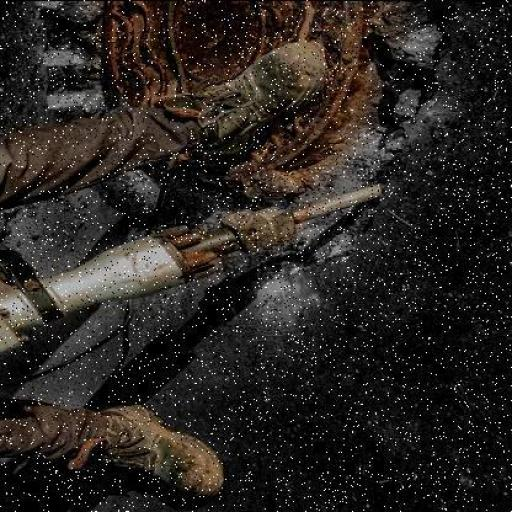safety_shoe: (185, 40, 326, 158), (97, 400, 222, 496)
